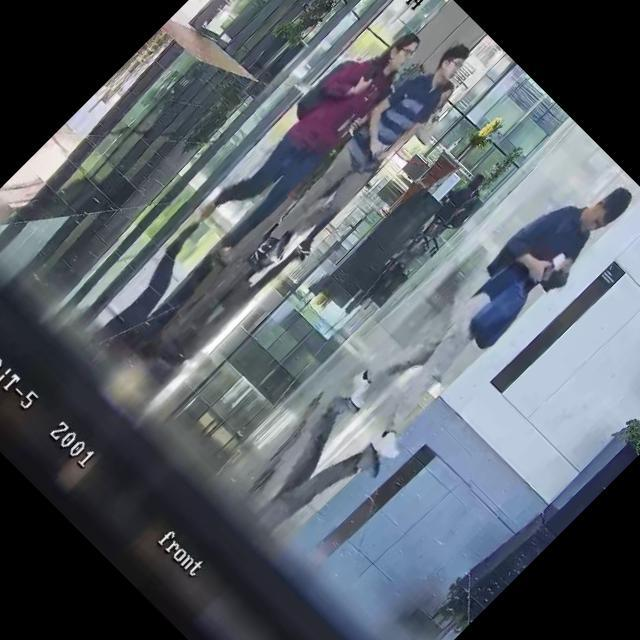person: (344, 152, 640, 453), (178, 9, 438, 269), (233, 30, 491, 288), (432, 167, 490, 224)
